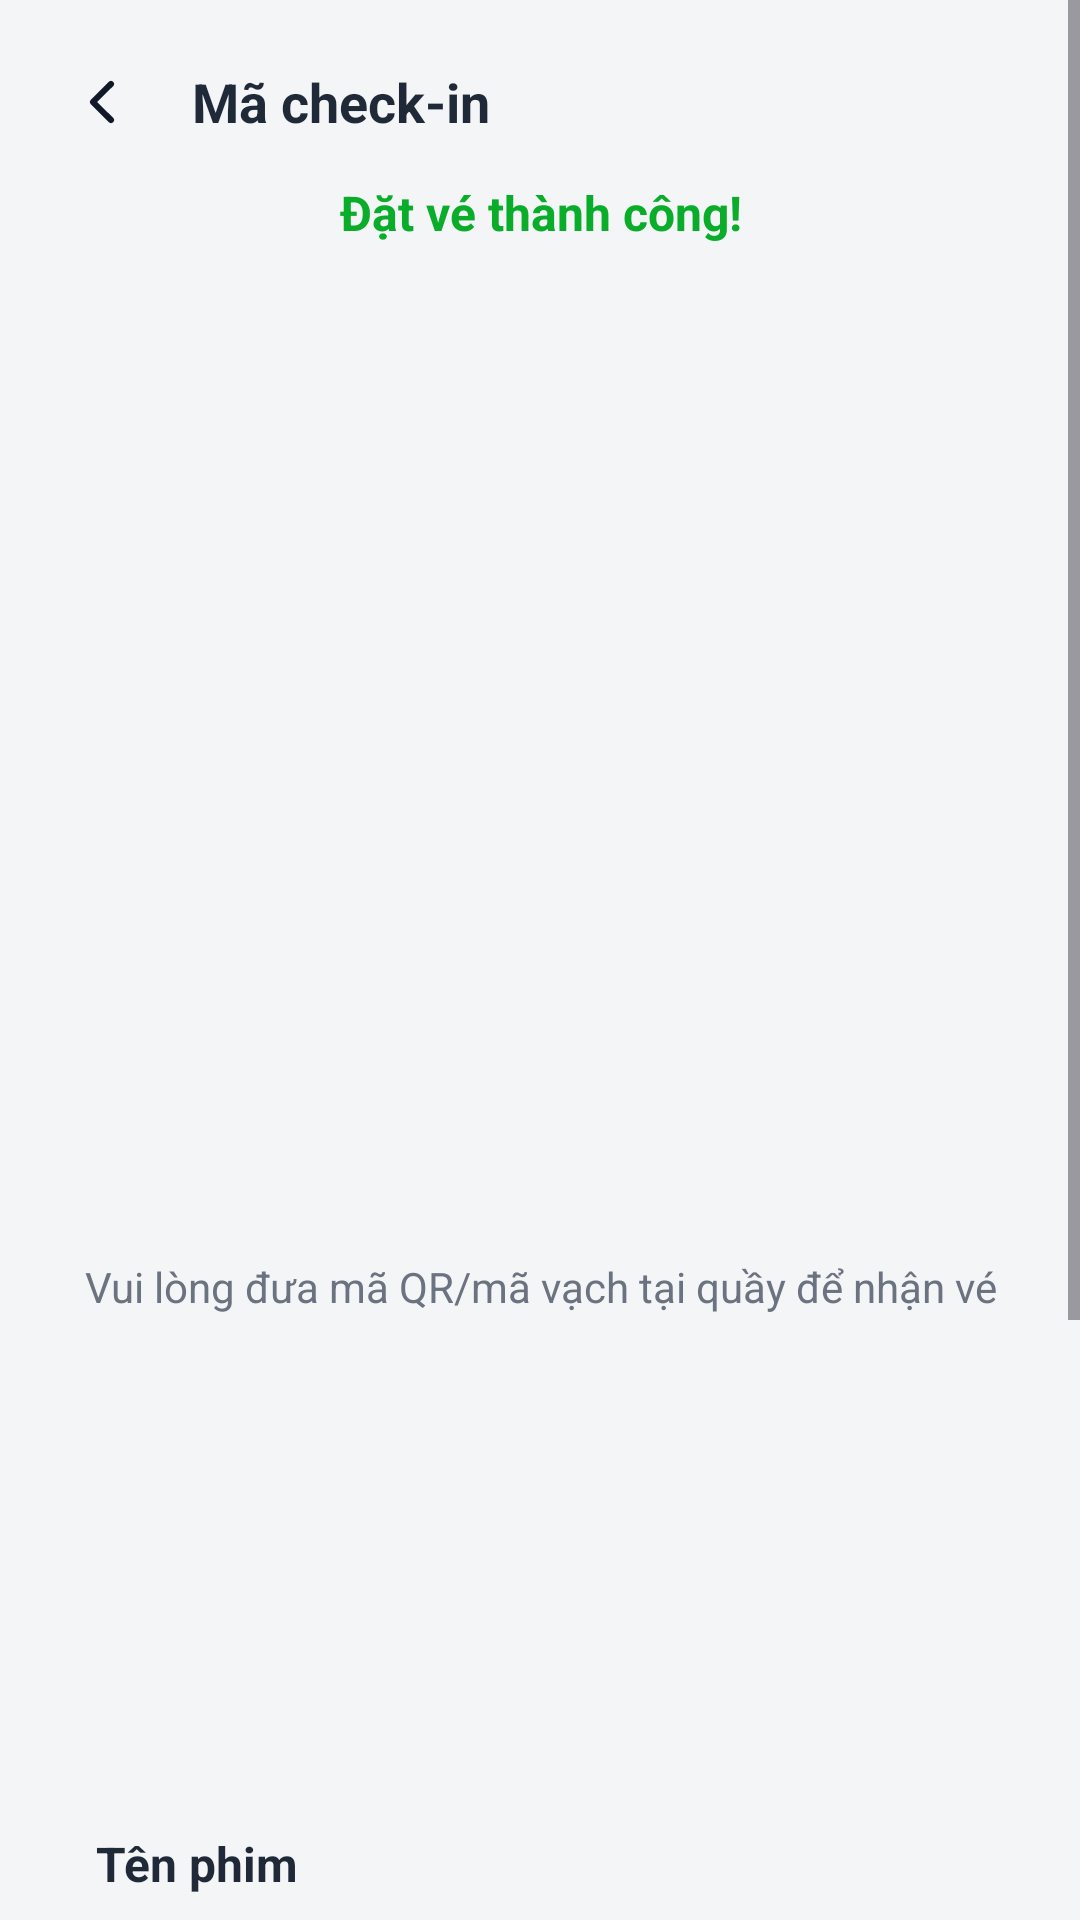

Icon bounding boxes for this 1080x1920 phone screenshot, format (x1, y1, x2, y2):
back: (90, 81, 114, 123)
